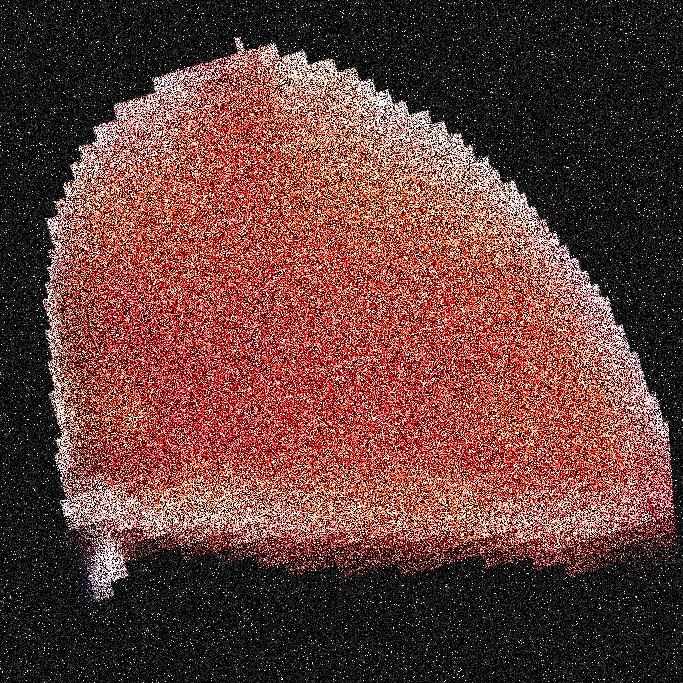Capacete: (216, 0, 459, 682)
